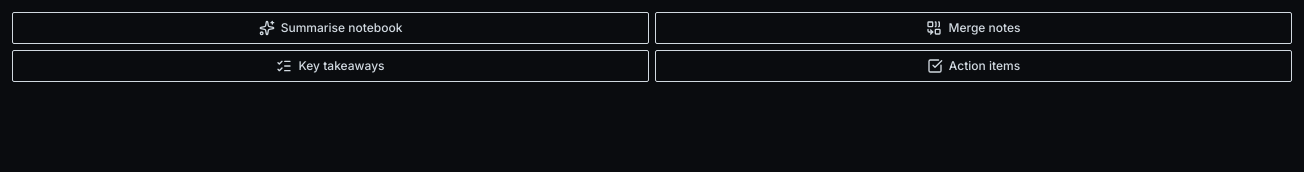
Test case: NotebookSummaryPanel — action items › honestly reports unavailable rather than fabricating a list
Click the button with test id "notebook-summary-panel-action-items-button" at (974, 66), box [655,50,1292,82]
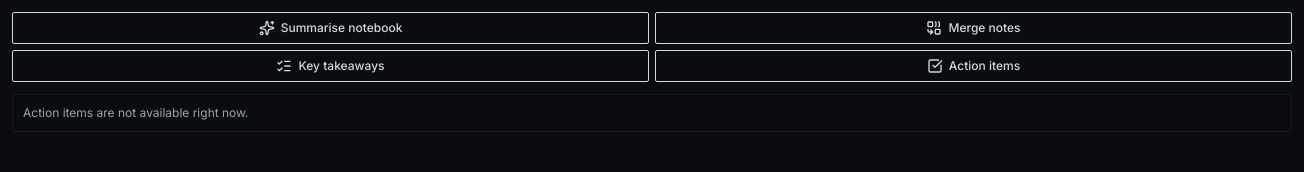
Expected: the text "Action items are not available right now." is shown, [23,105,248,120]
